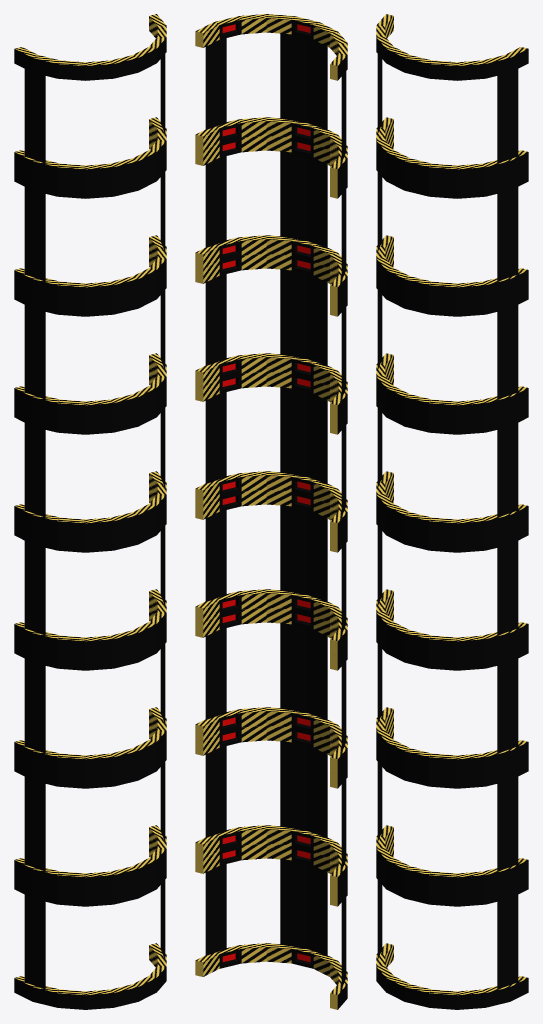
The model's file is SpaceTunnel.fbx.
3 views of the same model, side by side, from view 1: azimuth 30°, elevation 25°; view 2: azimuth 150°, elevation 25°; view 3: azimuth 330°, elevation 25° (orthographic).
Parts seen in each view (by area): view 1: Tunnel_Beam; view 2: Tunnel_Beam; view 3: Tunnel_Beam.
Boxes of the visible parts, bbox=[...] form: Tunnel_Beam: bbox=[14, 14, 166, 1009]; Tunnel_Beam: bbox=[195, 14, 347, 1009]; Tunnel_Beam: bbox=[376, 14, 528, 1009].
Bounding box in the file's own units: 1010 × 6400 × 498.
